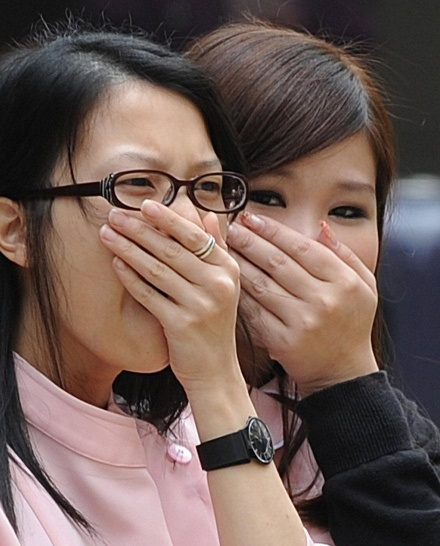face: (62, 88, 222, 371), (216, 105, 380, 360)
